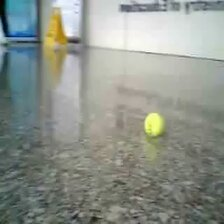tennis: (144, 113, 165, 137)
